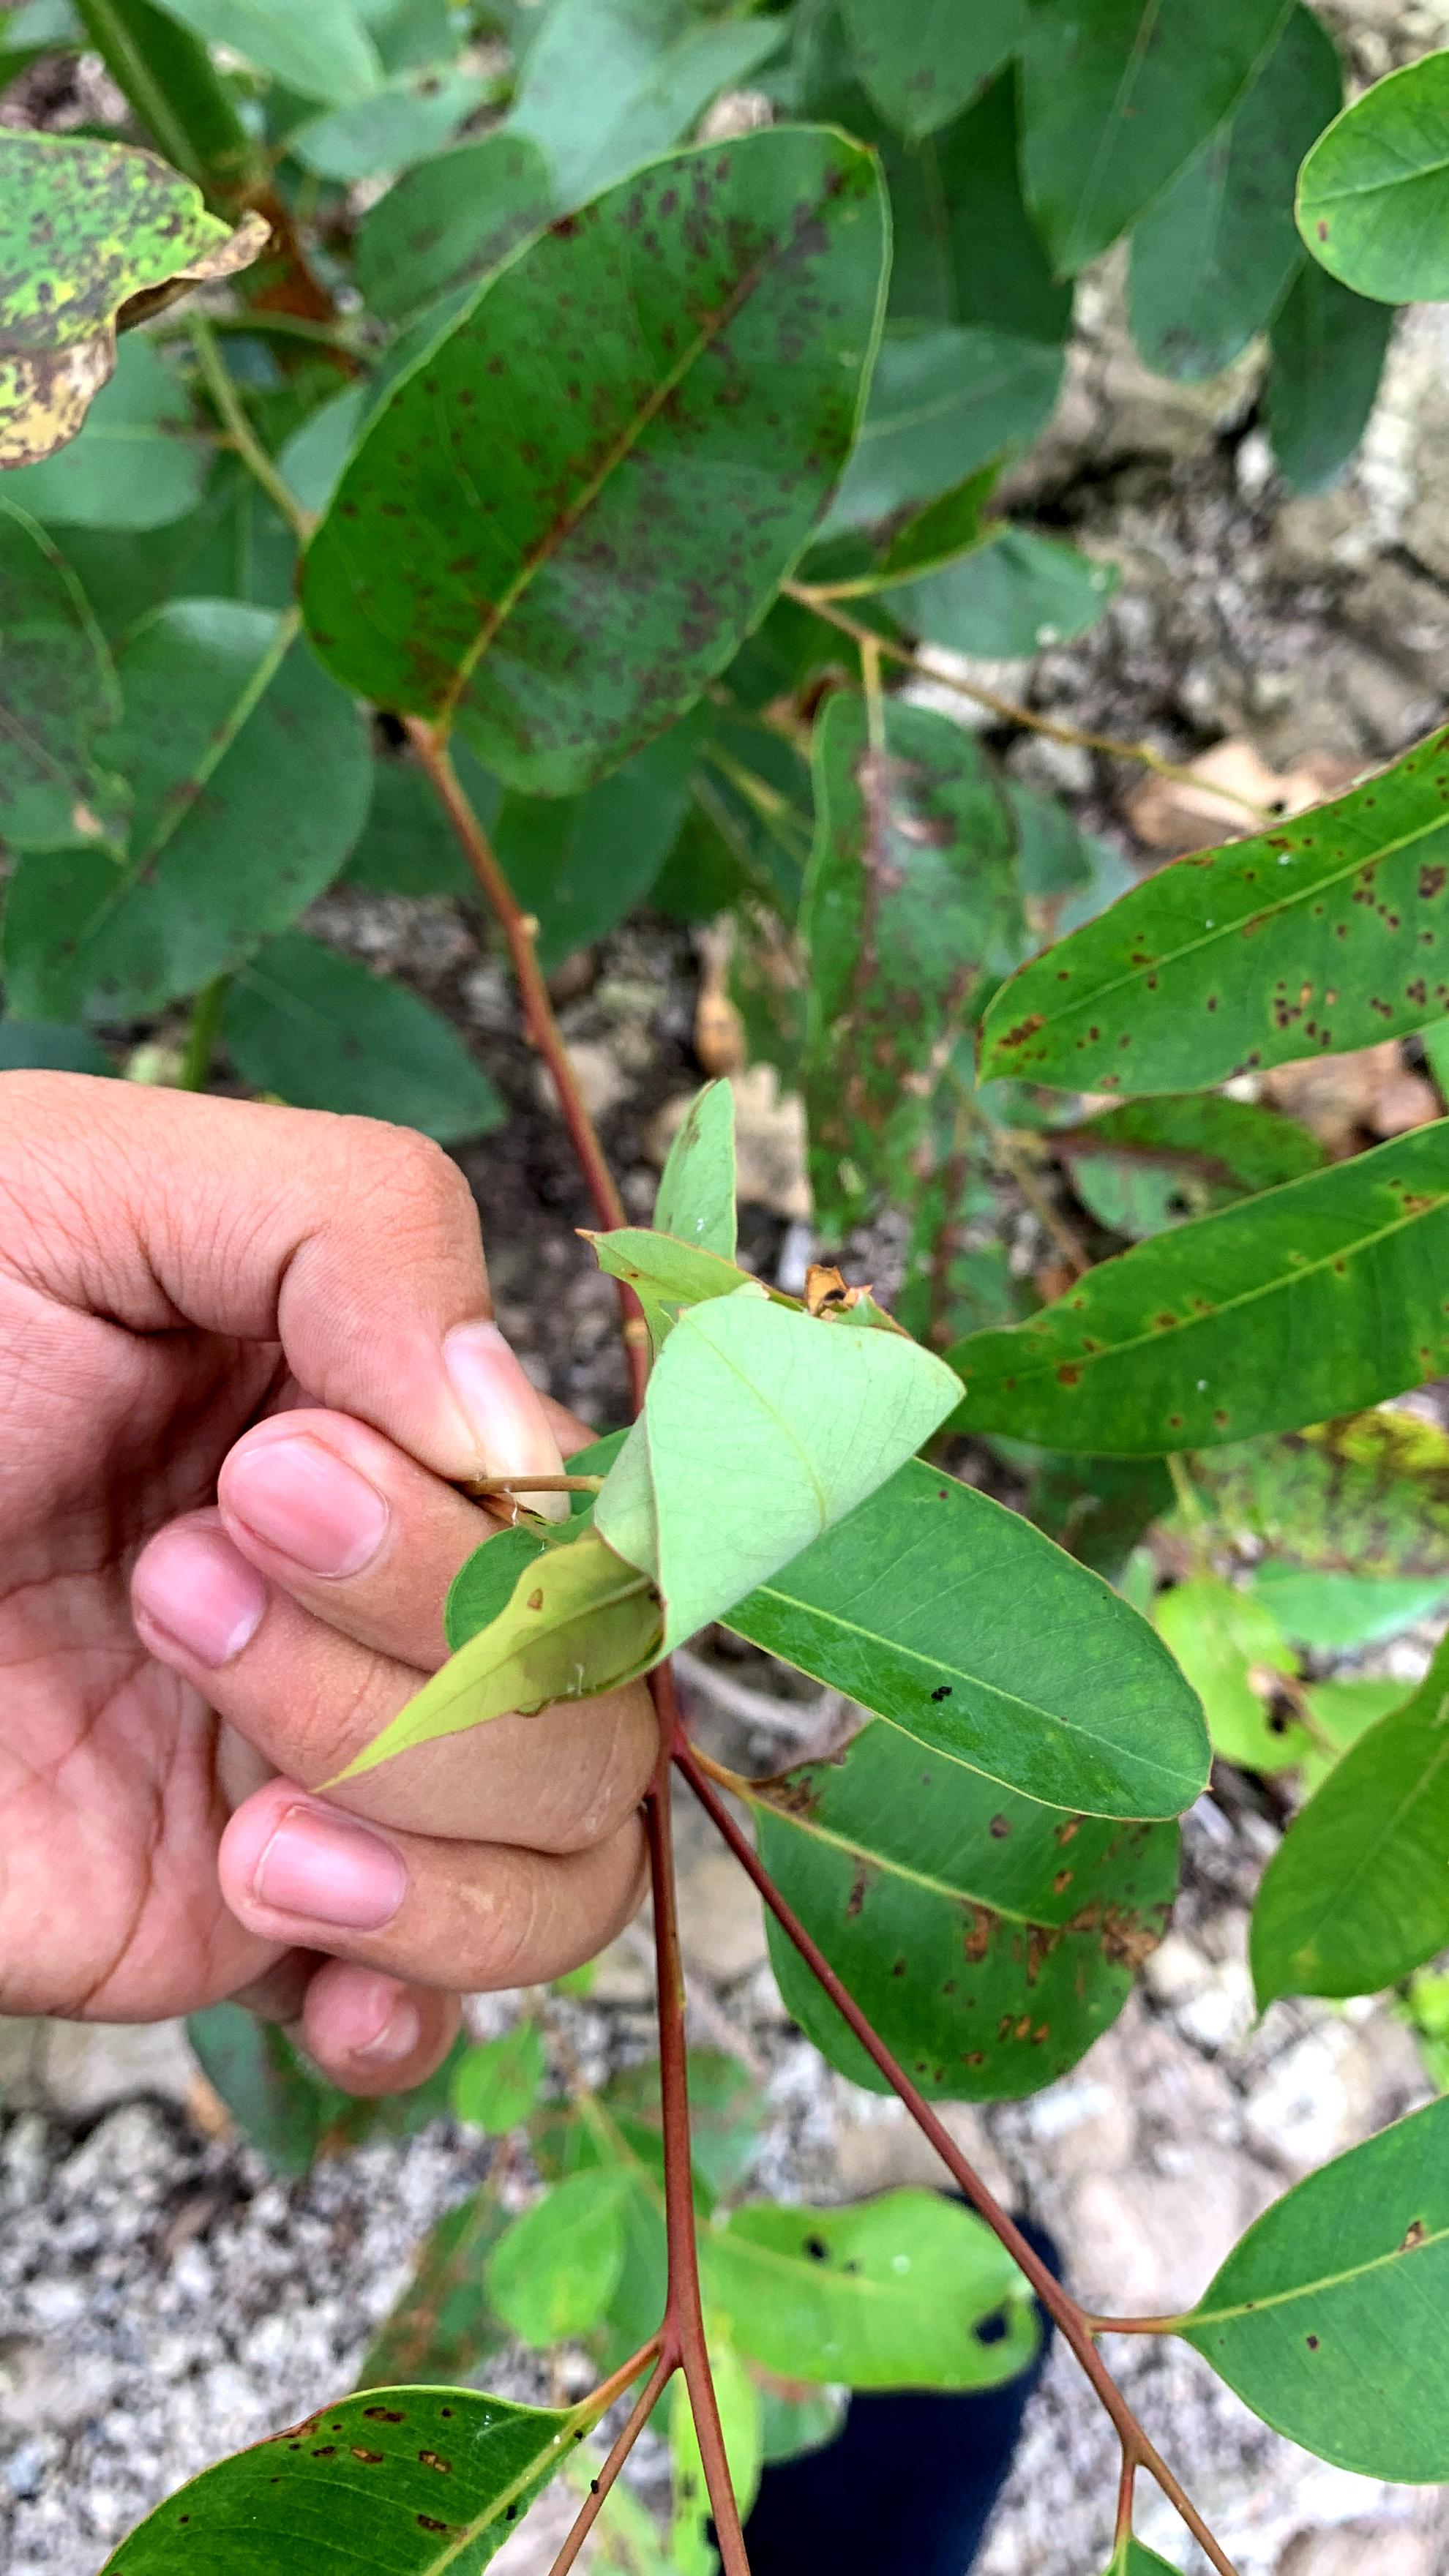Leaf Roller - Leaf: (392, 1224, 967, 1837)
